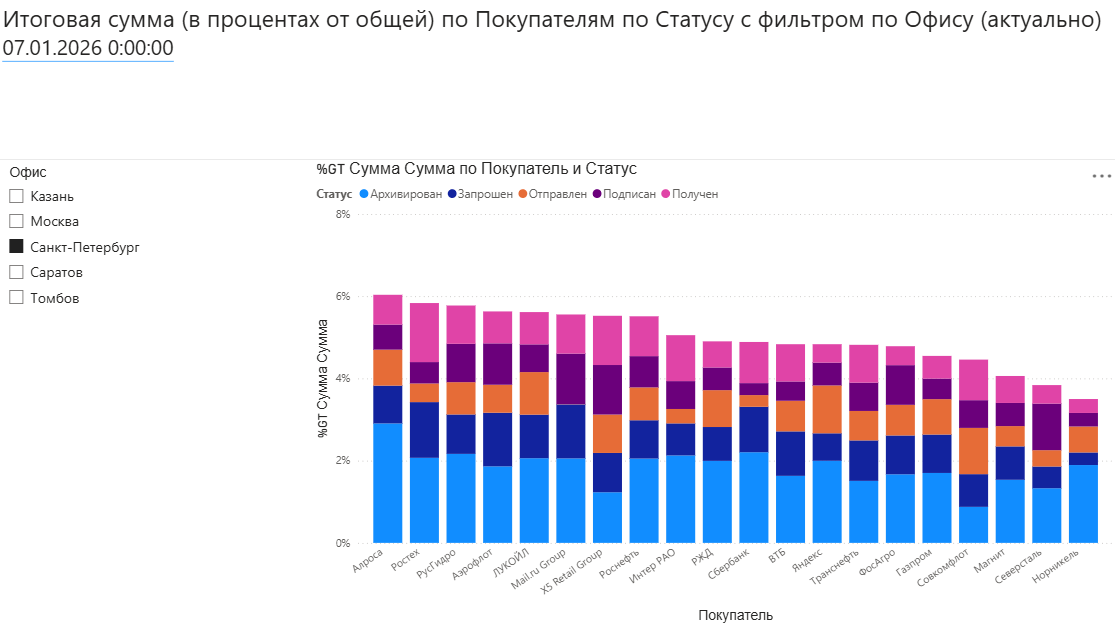

What the dashboard file says about the page in this screenshot:
{"tool":"powerbi","page":{"name":"Диаграмма 2","canvas":[1280,720],"ordinal":1},"visuals":[{"type":"columnChart","fields":{"Y":["Sum(Sheet1.Сумма)"],"Category":["Sheet1.Покупатель"],"Series":["Sheet1.Статус"]},"box":[359.2,184.8,920.8,535.2],"z":0},{"type":"textbox","box":[0,0,1280.3,185.2],"z":1},{"type":"slicer","fields":{"Values":["Sheet1.Офис"]},"box":[0,185,360,535],"z":2}]}

Visuals, with their boxes in screenshot pixels (x1, y1, x2, y2), scaled from the page's 1280x720 canvas onto the 1115x627 screenshot:
columnChart - Sum(Sheet1.Сумма) x Sheet1.Покупатель: {"x1": 313, "y1": 161, "x2": 1114, "y2": 626}
textbox: {"x1": 0, "y1": 0, "x2": 1114, "y2": 161}
slicer - Sheet1.Офис: {"x1": 0, "y1": 161, "x2": 314, "y2": 626}
